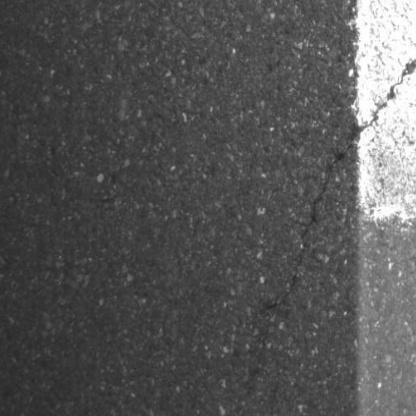Cracks: (261, 134, 360, 317)
